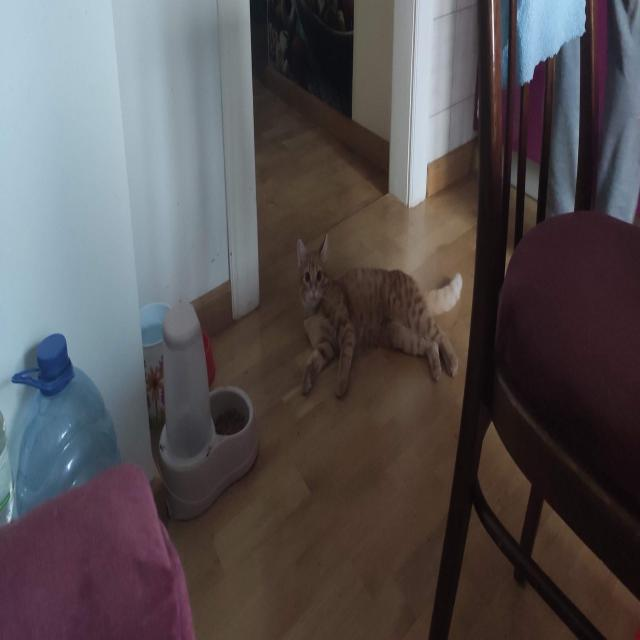red_cat: (289, 228, 464, 393)
